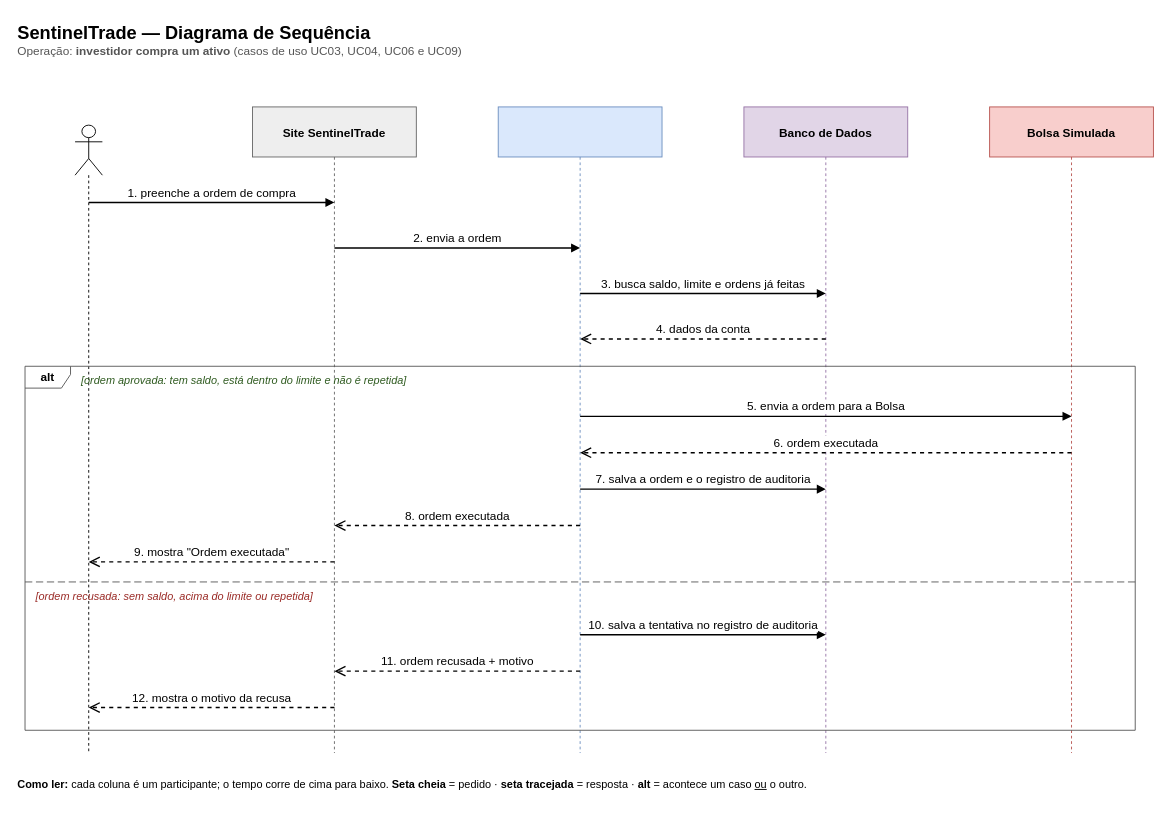
Image size: 1169x818. Some labels were removed from this diagram. The box of each missing label's shape, as (x1, y1, x2, y2) in pixels:
Investidor: (74, 124, 102, 753)
Sistema SentinelTrade (servidor): (497, 106, 662, 753)
